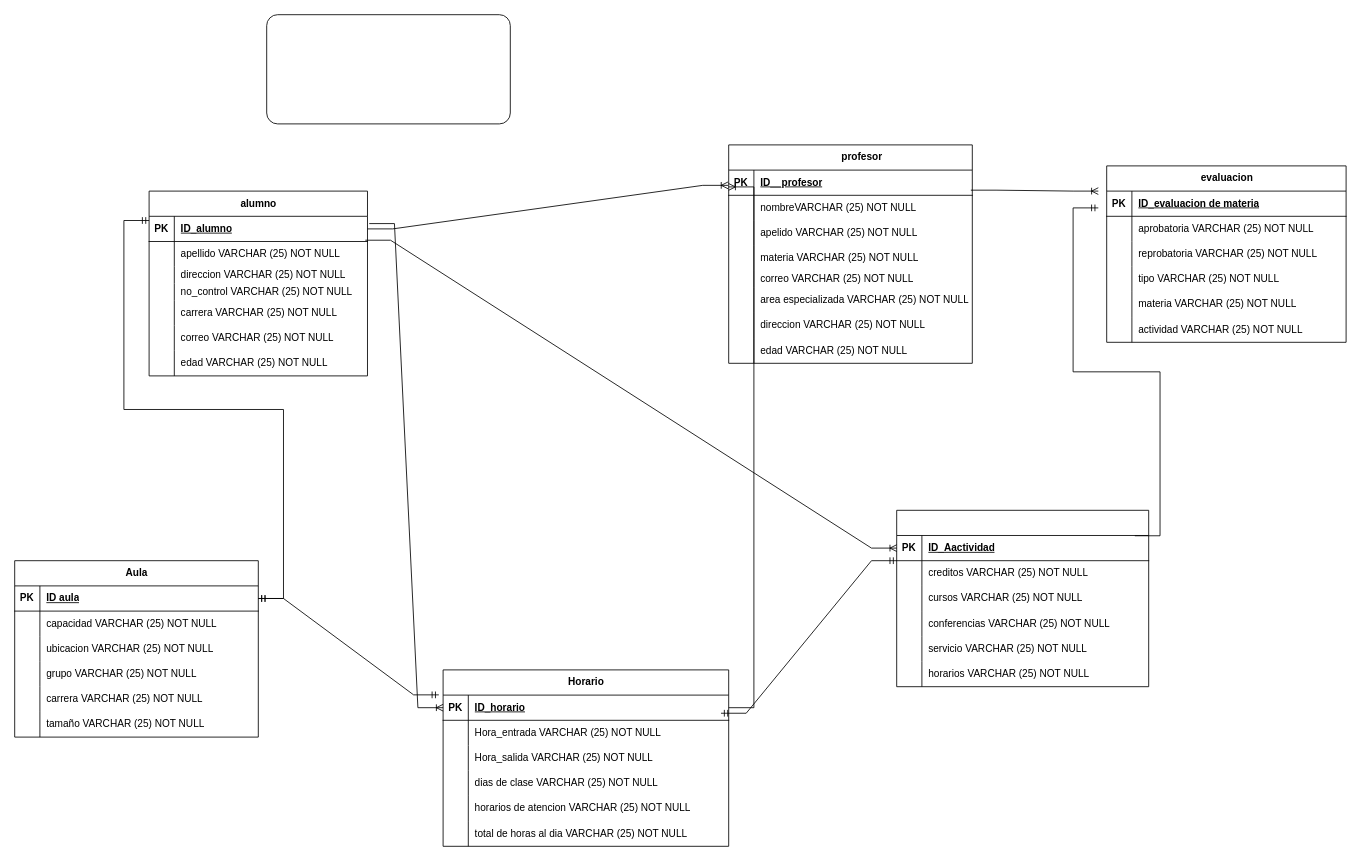
This 1361x861 diagram has some shape labels left out. The shapes that lost their labels are listed below. From the top down, each one's box as (x1, y1, x2, y2) in pixels, then its label:
(266, 14, 510, 124): CONTROL ESCOLAR
(896, 509, 1149, 687): Actividades academicas
